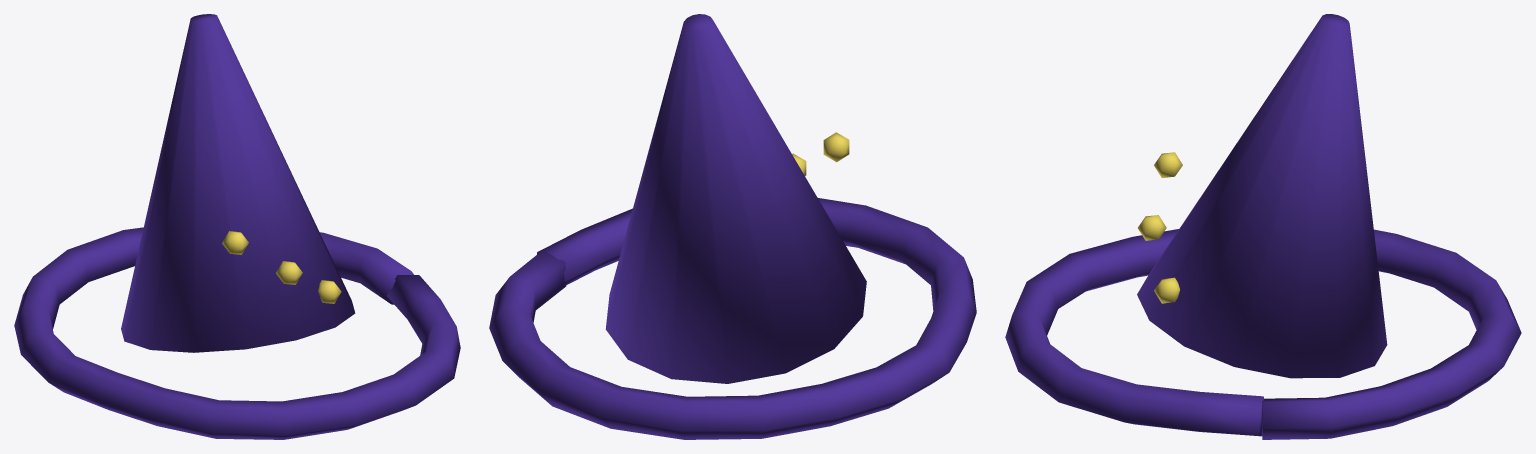
File: magic_hat_head.glb
3 renders of one model, left to right at view 1: azimuth 30°, elevation 25°; view 2: azimuth 150°, elevation 25°; view 3: azimuth 270°, elevation 25°, orthographic. The views are drawn at different scales.
Parts seen in each view (by area): view 1: magic_hat_head; view 2: magic_hat_head; view 3: magic_hat_head.
Part boxes in pixels (x1=…): magic_hat_head: x1=14, y1=14, x2=460, y2=439; magic_hat_head: x1=489, y1=14, x2=976, y2=439; magic_hat_head: x1=1005, y1=14, x2=1521, y2=439.
Size of the model in its own units: 0.3815 by 0.3005 by 0.4229.
